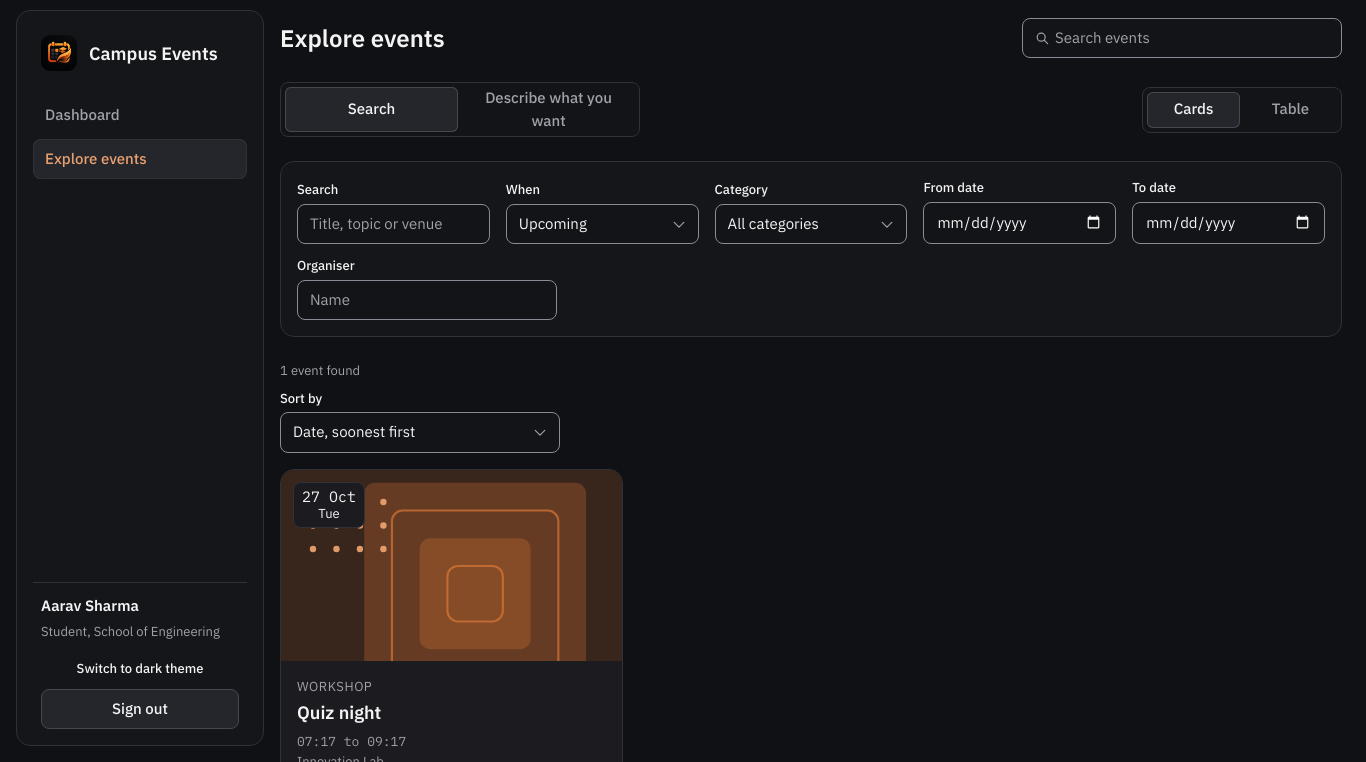
event cards › switches between cards and the table, keeping the view in the URL
This screenshot has width=1366, height=762.
Click the tab "Table".
click(1290, 110)  # box 1244,92 -> 1337,128
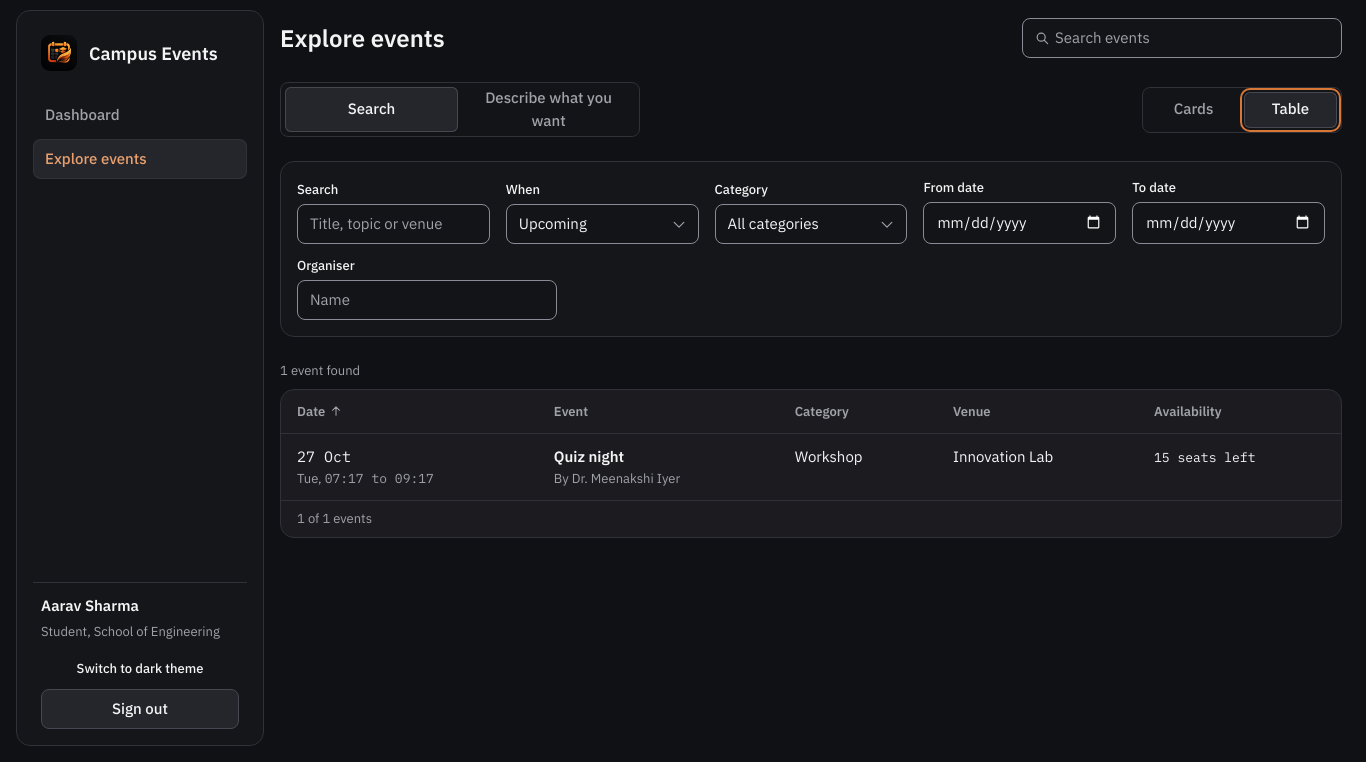
Result: the table is shown at 281,390 -> 1341,500
Click the tab "Cards".
click(1194, 110)  # box 1147,92 -> 1240,128
(page scrolled)
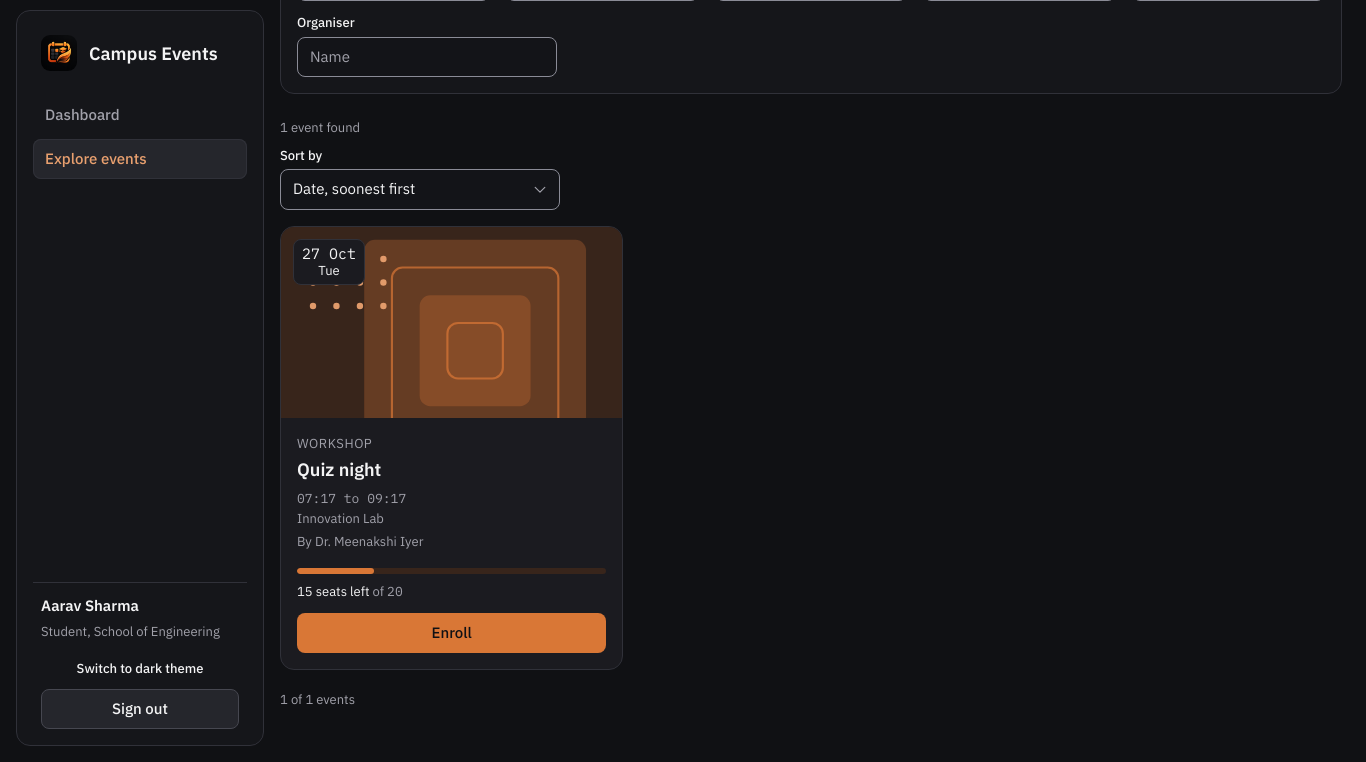
Result: the element "Quiz night" is shown at 280,226 -> 623,670
